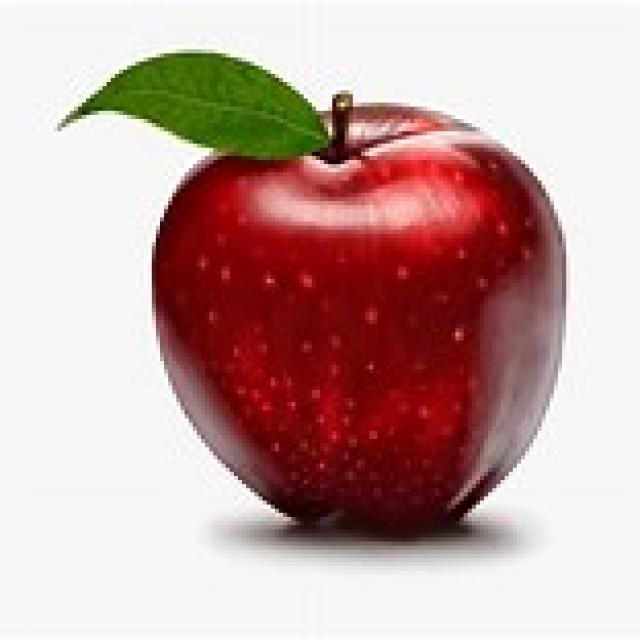Apple: (60, 49, 567, 536)
